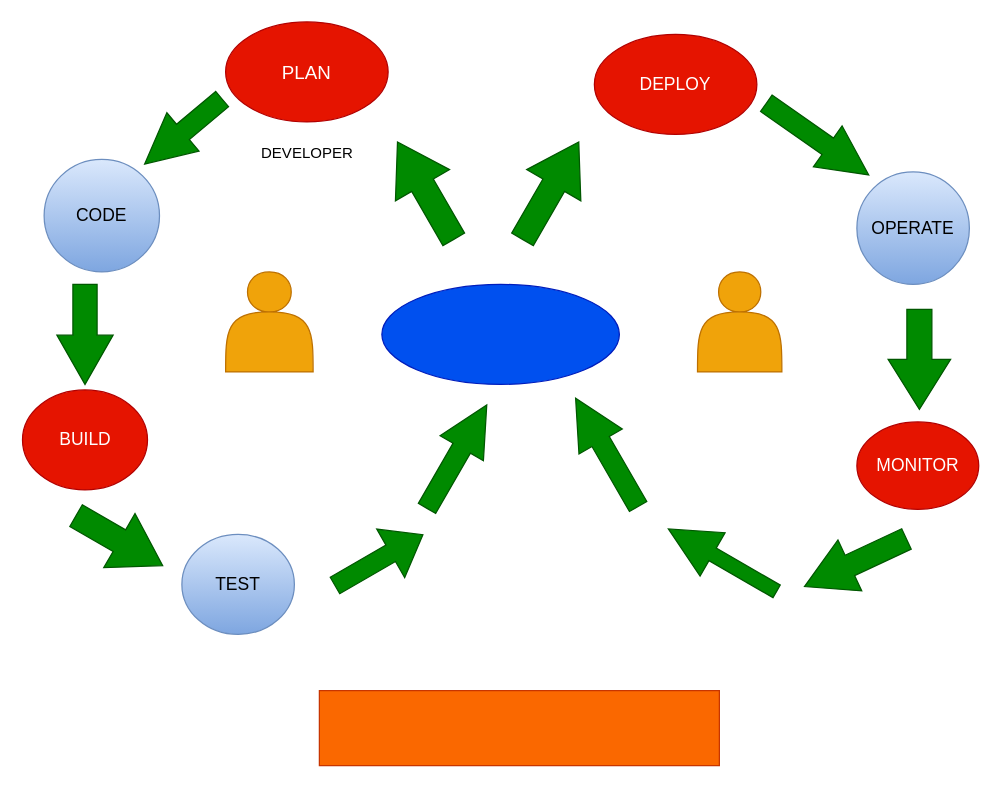
The diagram is 1000 pixels wide and 788 high, and some of its shapes have lost their labels. The shapes that lost their labels are listed below. From the top down, each one's centre as x and y in pixels, then its label:
(500,333): Continuous integration / Deployment
(518,727): FOOD DELIVERY
